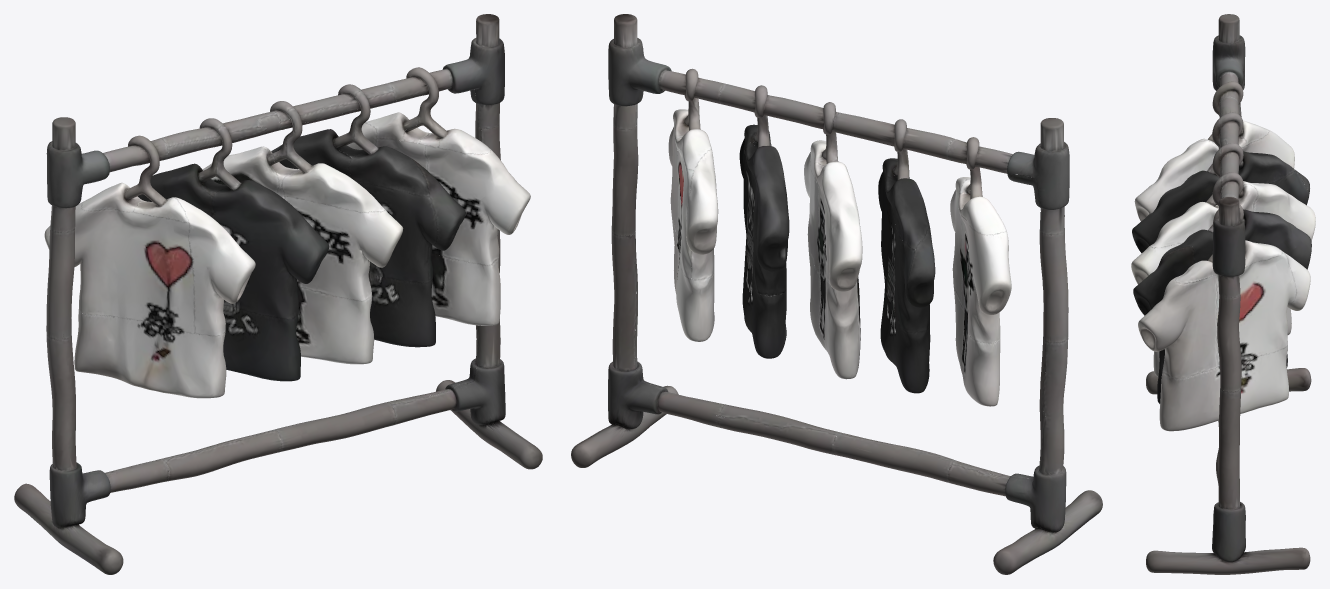
The model's file is regal.glb.
The picture shows the model from 3 angles, left to right: view 1: azimuth 30°, elevation 25°; view 2: azimuth 150°, elevation 25°; view 3: azimuth 270°, elevation 25°; orthographic projection. The views are drawn at different scales.
Visible parts, largest first — view 1: tmpohvylo6xobj; view 2: tmpohvylo6xobj; view 3: tmpohvylo6xobj.
Boxes of the visible parts, x1,y1,x2,y2 form: tmpohvylo6xobj: [14, 14, 542, 574]; tmpohvylo6xobj: [571, 14, 1102, 574]; tmpohvylo6xobj: [1131, 14, 1315, 574].
Bounding box in the file's own units: 1.43 × 1.27 × 0.5687.
Materials: 1 (1 with a texture image).
